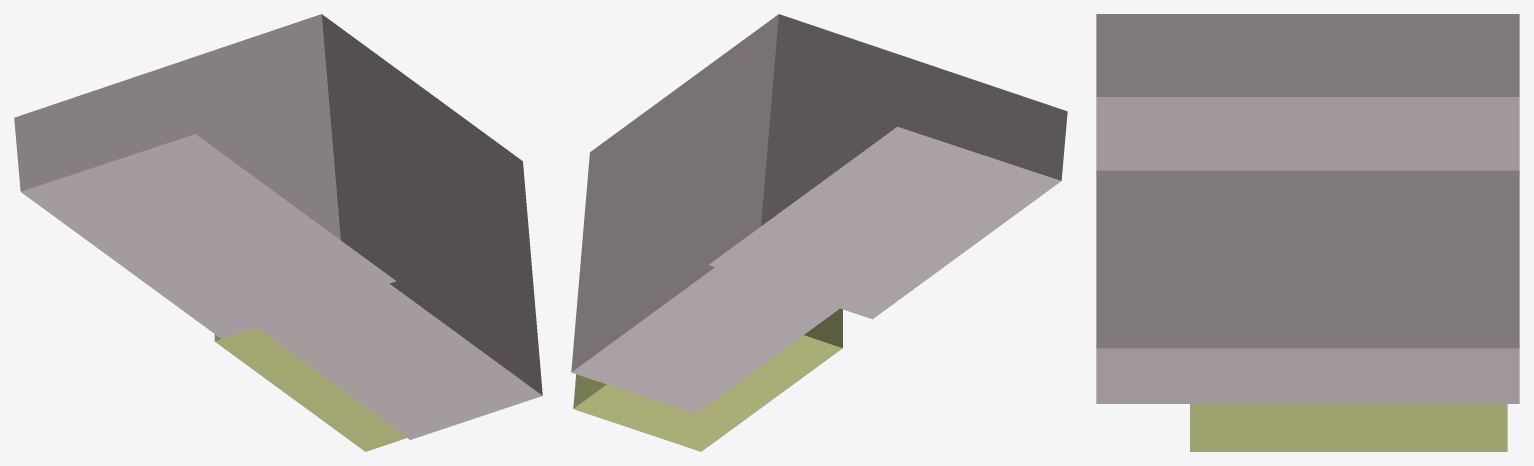
The picture shows the model from 3 angles, left to right: view 1: azimuth 30°, elevation 25°; view 2: azimuth 150°, elevation 25°; view 3: azimuth 270°, elevation 25°; orthographic projection. The views are drawn at different scales.
Visible parts, largest first — view 1: 0_2_3_3_3_1_0_3_2_2_1; view 2: 0_2_3_3_3_1_0_3_2_2_1; view 3: 0_2_3_3_3_1_0_3_2_2_1.
Boxes of the visible parts, x1,y1,x2,y2 form: 0_2_3_3_3_1_0_3_2_2_1: (14,14,542,451); 0_2_3_3_3_1_0_3_2_2_1: (571,14,1067,451); 0_2_3_3_3_1_0_3_2_2_1: (1096,14,1519,451).
Size of the model in its own units: 11.4 by 9.73 by 12.
